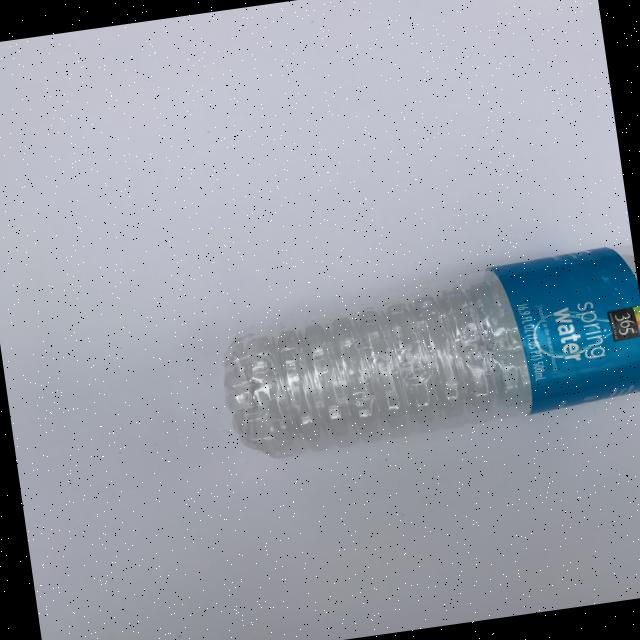plastic: (210, 241, 640, 464)
